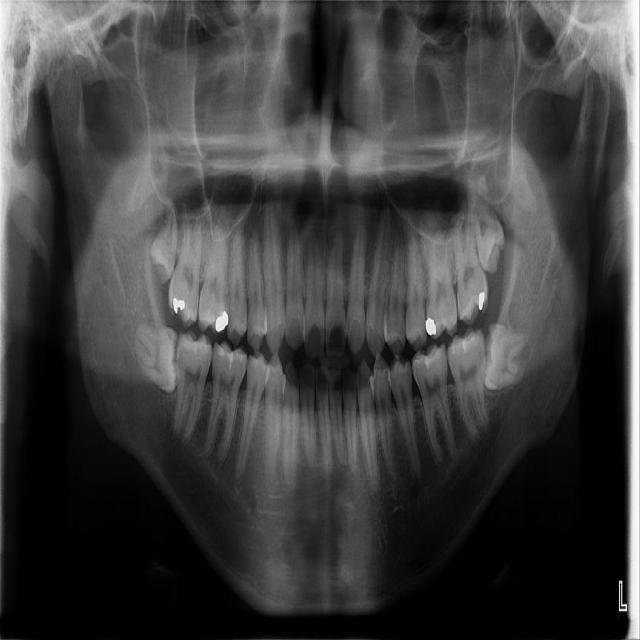3M ESPE Implant: (146, 194, 184, 286)
52: (168, 269, 202, 332), (194, 284, 233, 338), (457, 269, 489, 326), (423, 291, 459, 341)
73: (600, 556, 607, 570)
BioHorizons Implant: (448, 210, 492, 326)
BioLife Implant: (461, 174, 513, 277)
Biomet 3i Implant: (478, 323, 531, 394)
Blue Sky Bio Implant: (446, 326, 490, 442)
Caries: (165, 202, 211, 333)
Implant: (170, 328, 215, 445)
Keystone Dental Implant: (133, 322, 180, 394)
